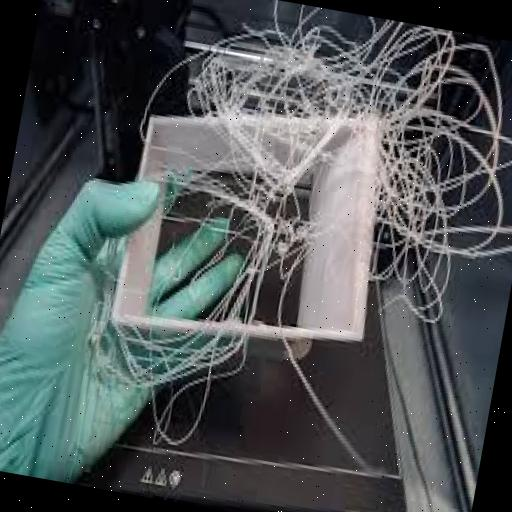spaghetti: (136, 0, 507, 302)
